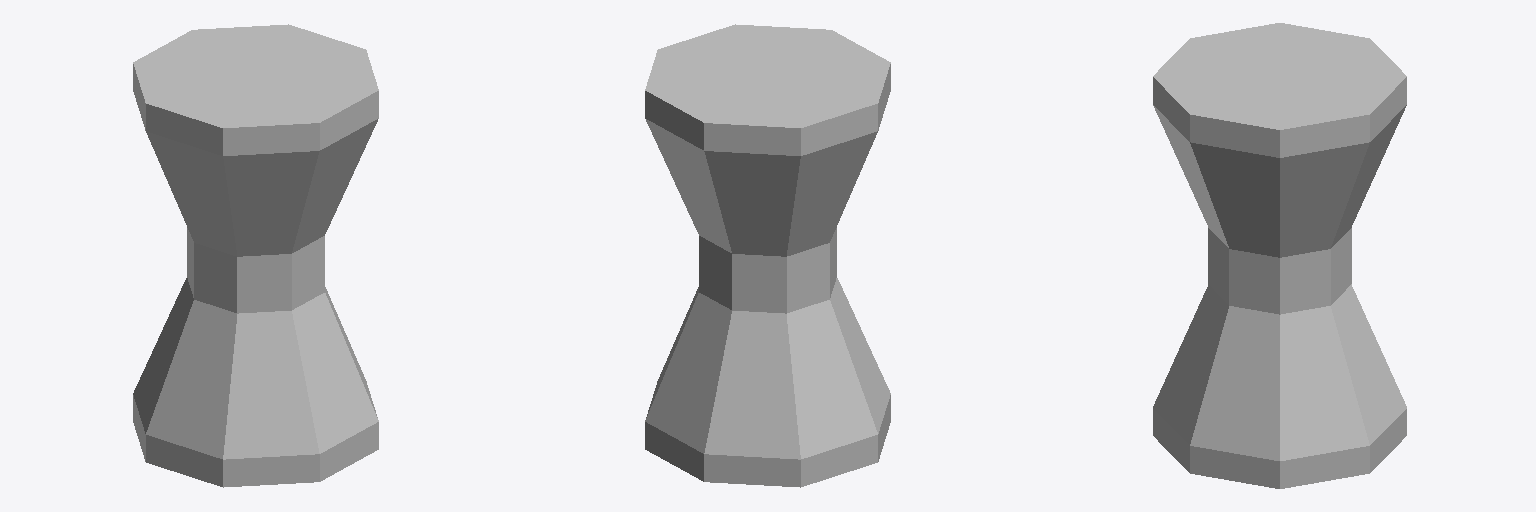
The model's file is hourglass.obj.
3 views of the same model, side by side, from view 1: azimuth 30°, elevation 25°; view 2: azimuth 150°, elevation 25°; view 3: azimuth 270°, elevation 25° (orthographic).
Parts seen in each view (by area): view 1: Cylinder; view 2: Cylinder; view 3: Cylinder.
Boxes of the visible parts, x1=… form: Cylinder: x1=133, y1=24, x2=378, y2=487; Cylinder: x1=645, y1=24, x2=890, y2=487; Cylinder: x1=1153, y1=23, x2=1406, y2=488.
Size of the model in its own units: 2 by 3.11 by 2.